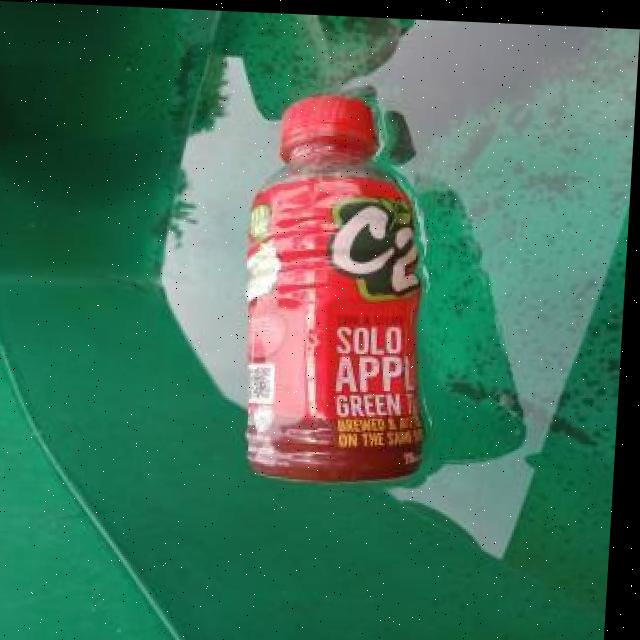bottle: (234, 87, 450, 486)
